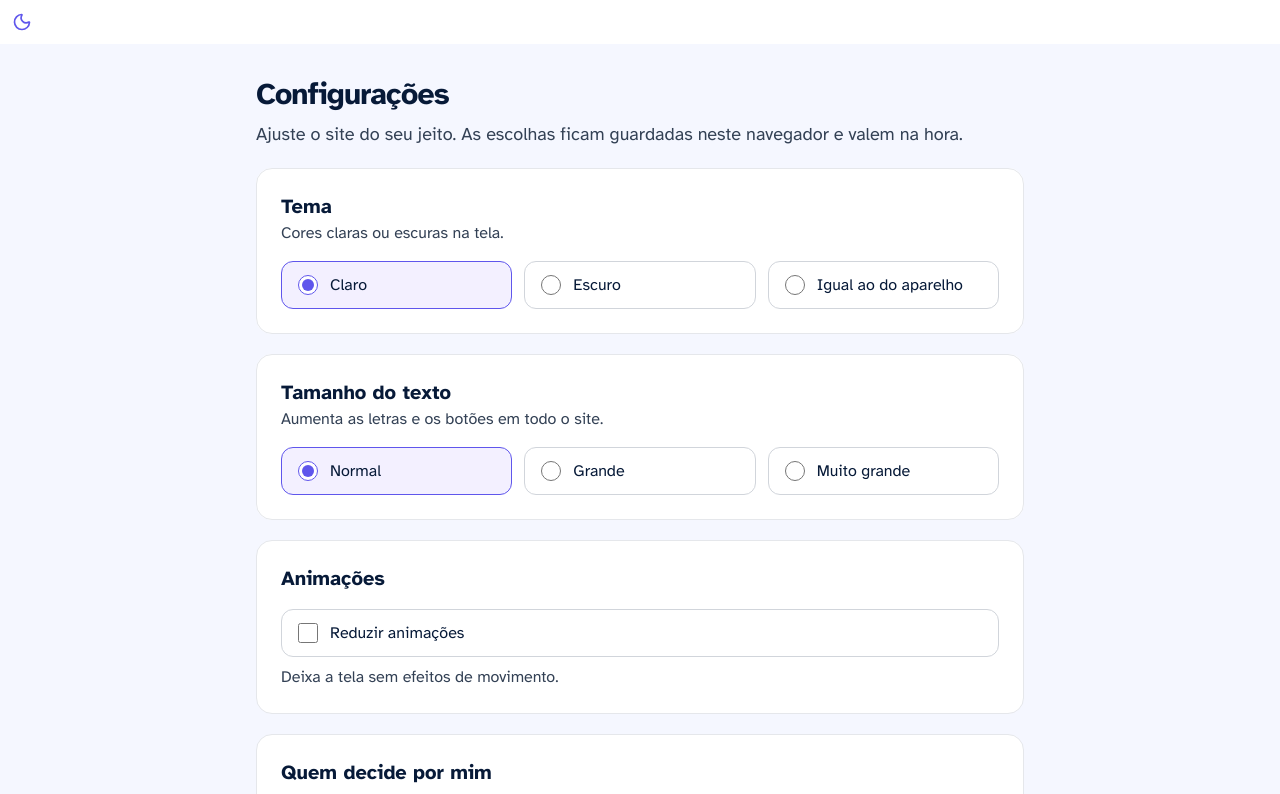
Test: Configurações › trocar o tema aplica na hora, guarda, avisa e atualiza o botão de tema do cabeçalho
The image size is (1280, 794).
Expected: the button named "Ativar modo escuro" is shown, [0, 0, 44, 44]
Click the radio button labelled "Escuro" at (551, 285), box [541, 275, 561, 295]
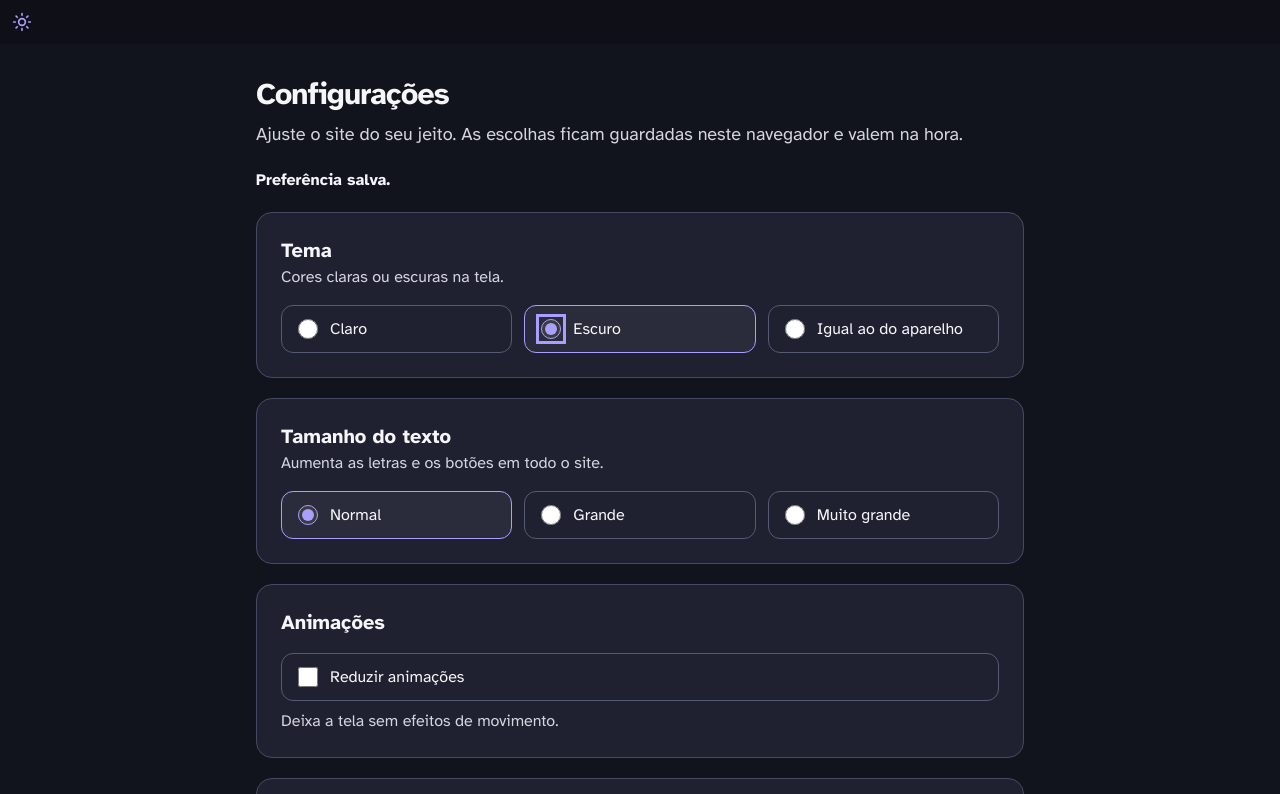
Expected: the message reads "Preferência salva.", [256, 170, 390, 190]
Expected: the button named "Ativar modo claro" is shown, [0, 0, 44, 44]
